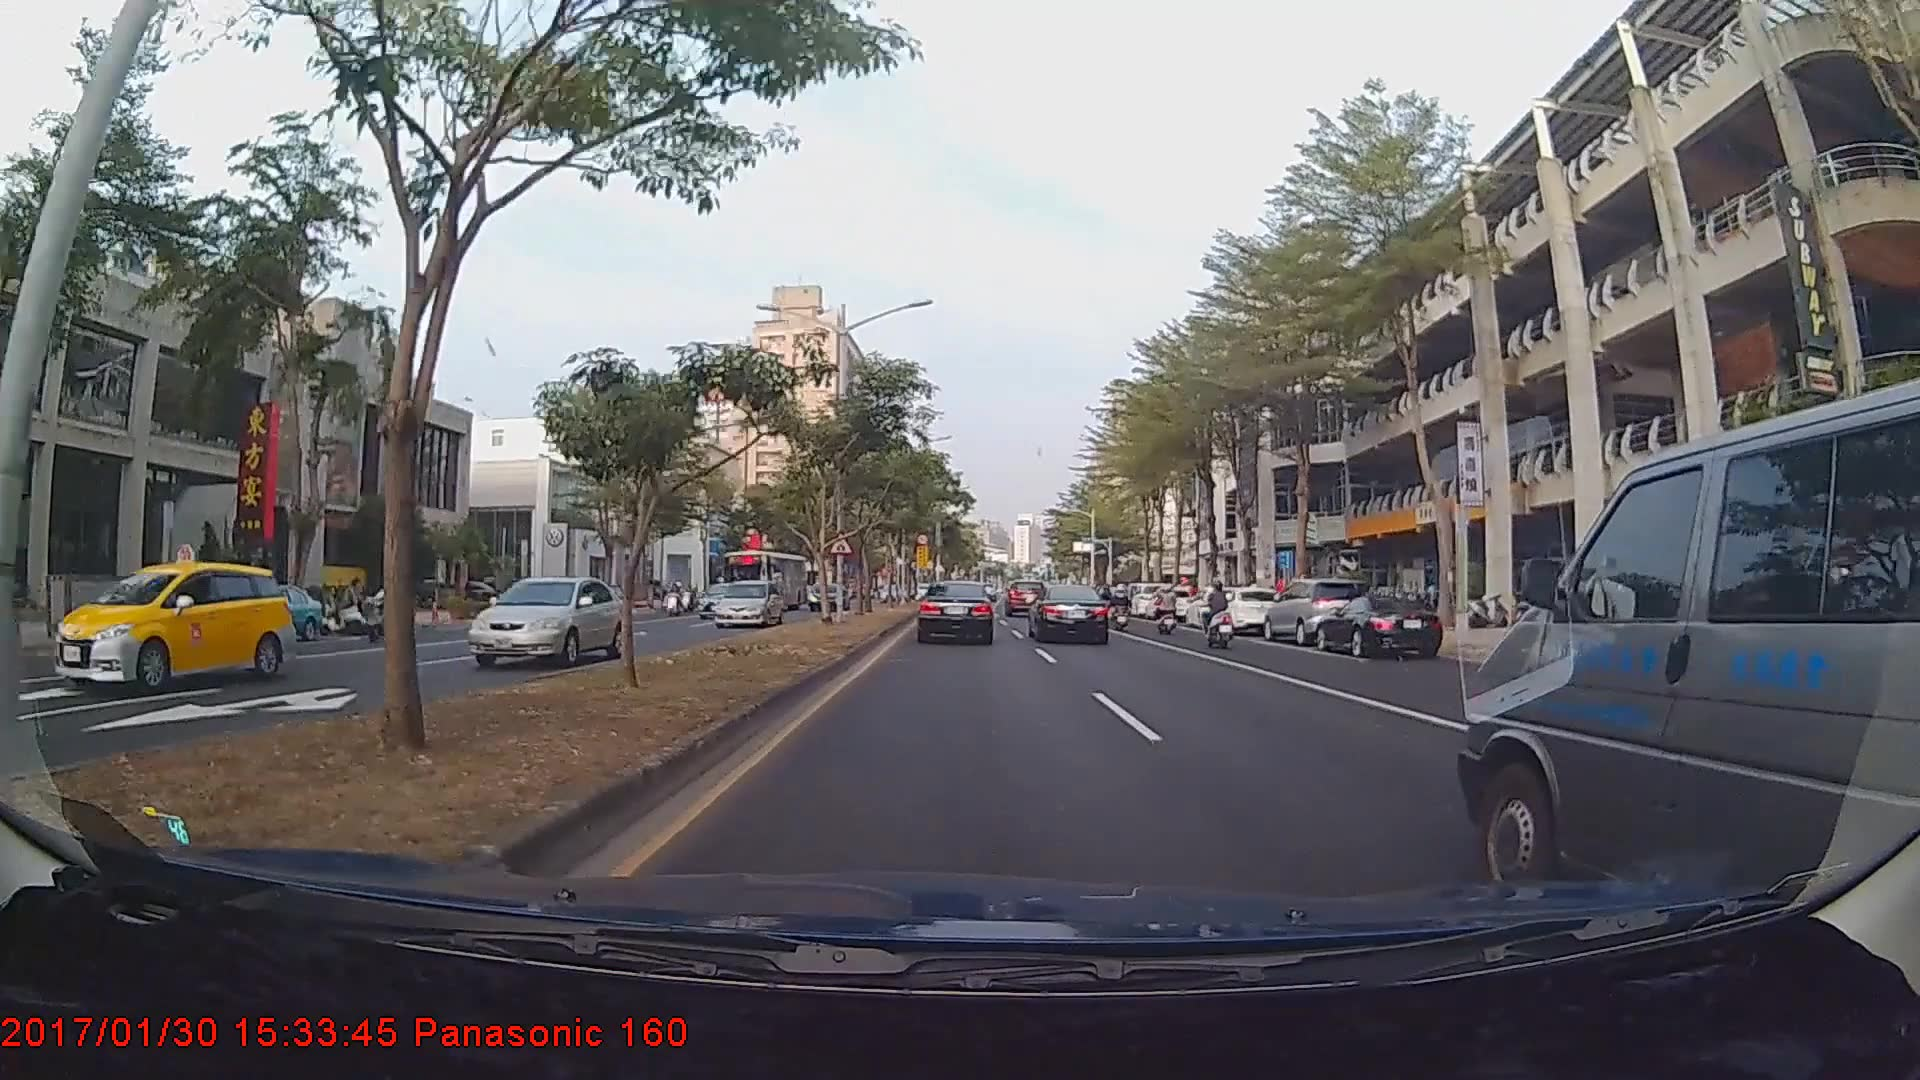rider: (1199, 582, 1241, 656), (1149, 582, 1183, 641), (1109, 584, 1133, 635)
vehicle: (1470, 414, 1914, 893), (49, 557, 296, 695), (466, 574, 626, 665), (1314, 596, 1445, 659), (1267, 578, 1375, 650), (719, 548, 809, 615), (223, 583, 322, 640), (917, 580, 996, 645), (1030, 582, 1110, 644), (710, 578, 786, 627), (1210, 585, 1281, 635), (1182, 584, 1241, 627), (694, 582, 746, 618), (1004, 577, 1049, 615), (807, 579, 852, 610)
